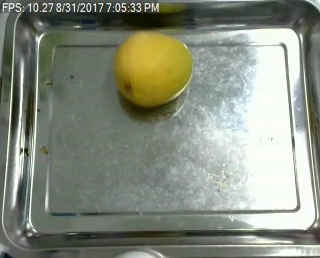Mango: (115, 31, 194, 107)
